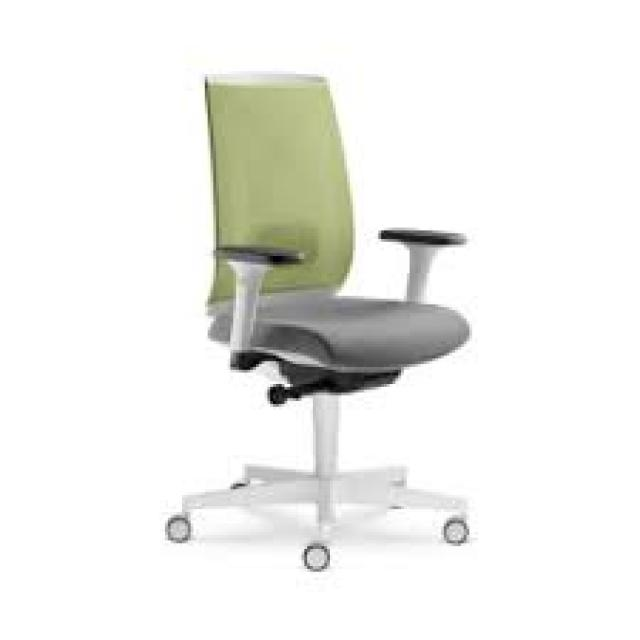chair: (111, 48, 496, 588)
